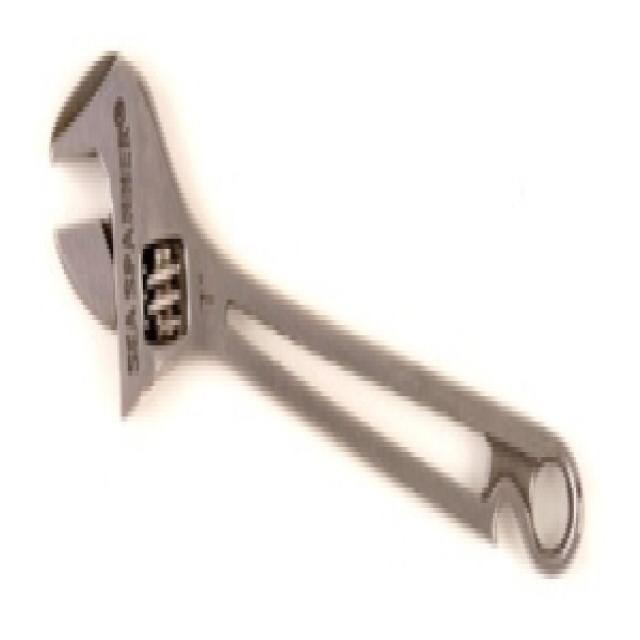wrench: (40, 41, 588, 588)
